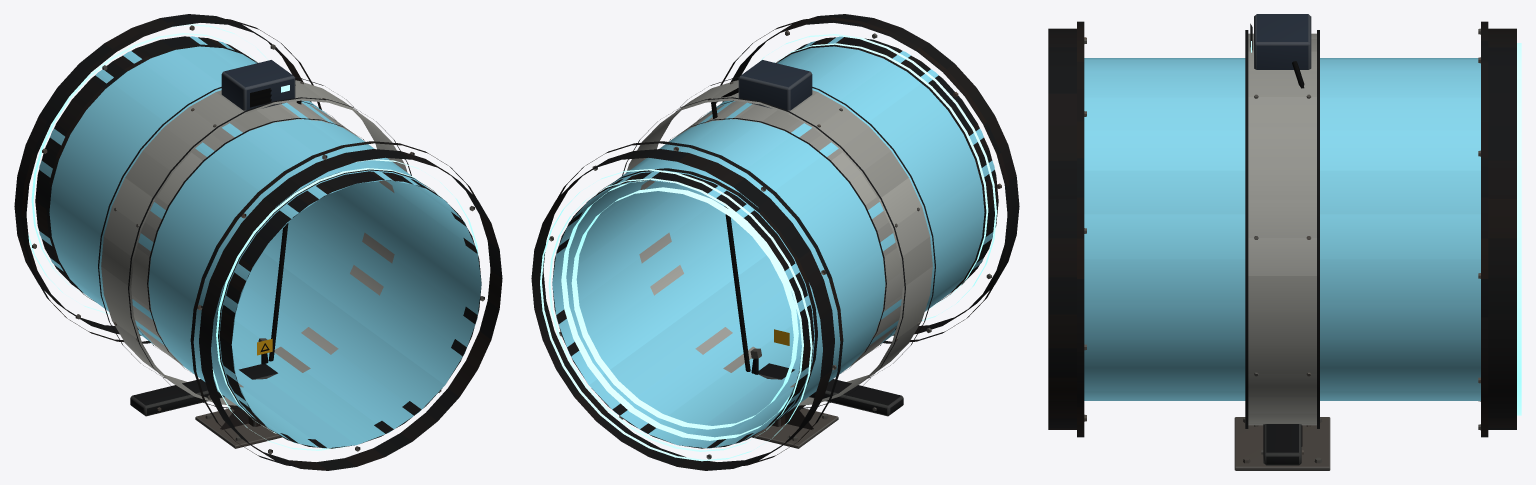
File: concept_tube_straight.glb
3 views of the same model, side by side, from view 1: azimuth 30°, elevation 25°; view 2: azimuth 150°, elevation 25°; view 3: azimuth 270°, elevation 25° (orthographic). The views are drawn at different scales.
Visible parts, largest first — view 1: Glass, Frame; view 2: Glass, Frame, Pulse; view 3: Glass, Frame.
Part boxes in pixels (left/top/right/bottom): Glass: left=39, top=36, right=481, bottom=448; Frame: left=14, top=14, right=502, bottom=470; Glass: left=552, top=36, right=994, bottom=448; Frame: left=531, top=14, right=1019, bottom=470; Pulse: left=561, top=180, right=798, bottom=440; Glass: left=1084, top=58, right=1480, bottom=400; Frame: left=1048, top=14, right=1521, bottom=470.
Bounding box in the file's own units: 1.74 × 1.93 × 1.98.
